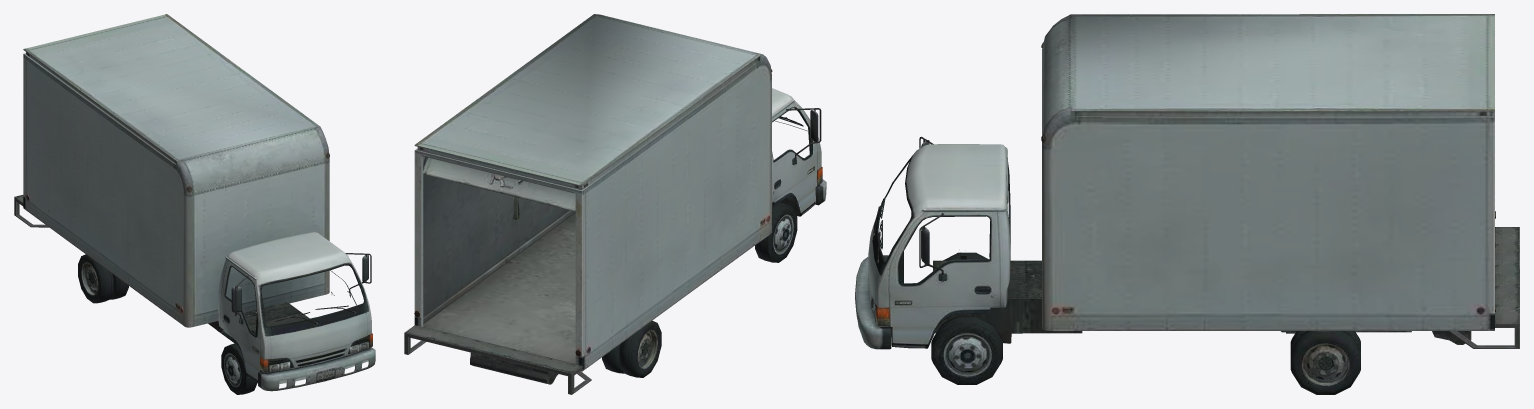
Rendered from truck_nuke.glb.
The picture shows the model from 3 angles, left to right: view 1: azimuth 30°, elevation 25°; view 2: azimuth 150°, elevation 25°; view 3: azimuth 270°, elevation 25°; orthographic projection. The views are drawn at different scales.
Parts seen in each view (by area): view 1: 0_truck_nuke; view 2: 0_truck_nuke; view 3: 0_truck_nuke.
Boxes of the visible parts, bbox=[...] form: 0_truck_nuke: bbox=[14, 14, 375, 394]; 0_truck_nuke: bbox=[404, 14, 826, 394]; 0_truck_nuke: bbox=[855, 14, 1519, 394].
Bounding box in the file's own units: 2.89 × 3.99 × 8.31.
Materials: 1 (1 with a texture image).
